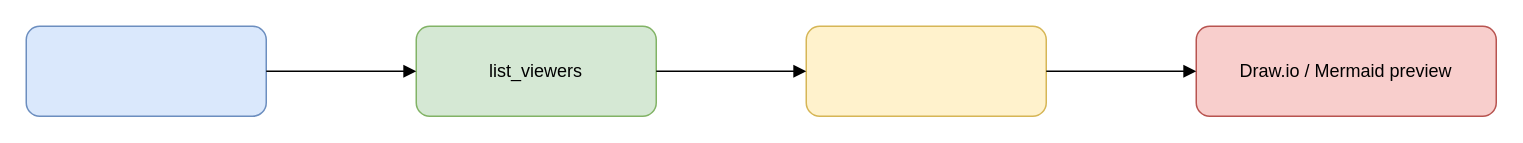
The diagram is 1523 pixels wide and 143 high, and some of its shapes have lost their labels. Each missing label, with the centre of its shape:
open_with: (x=925, y=70)
Voice agent: (x=145, y=70)
